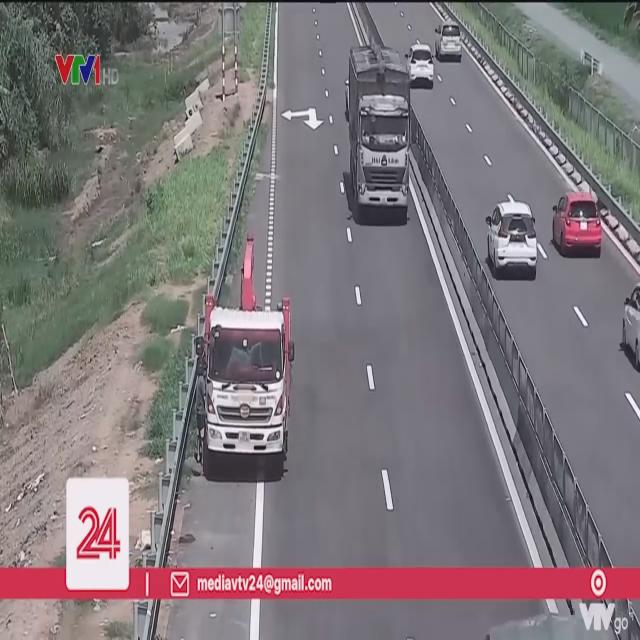car: (487, 194, 542, 281), (553, 190, 604, 258), (408, 45, 434, 86), (436, 24, 462, 63)
truck: (205, 295, 294, 483), (347, 42, 412, 224)
